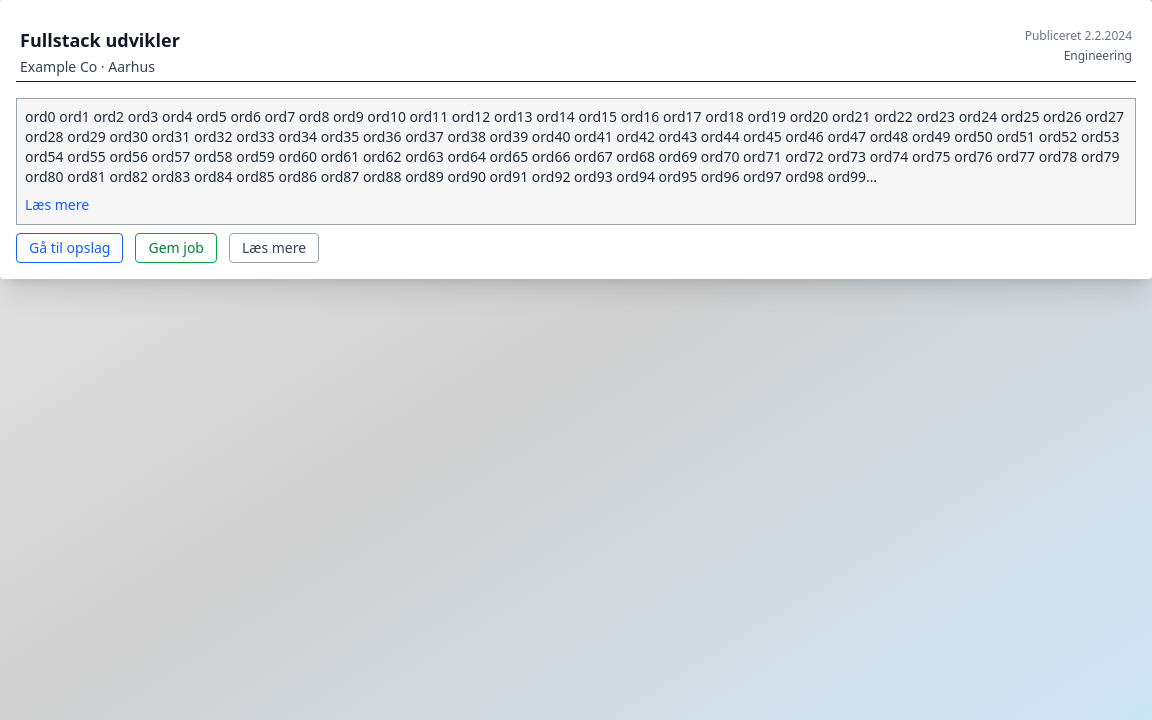
Test: JobList interactions › saves a job and flips the CTA
Click the button "Gem job". click: (176, 248)
box: [136,233,217,263]
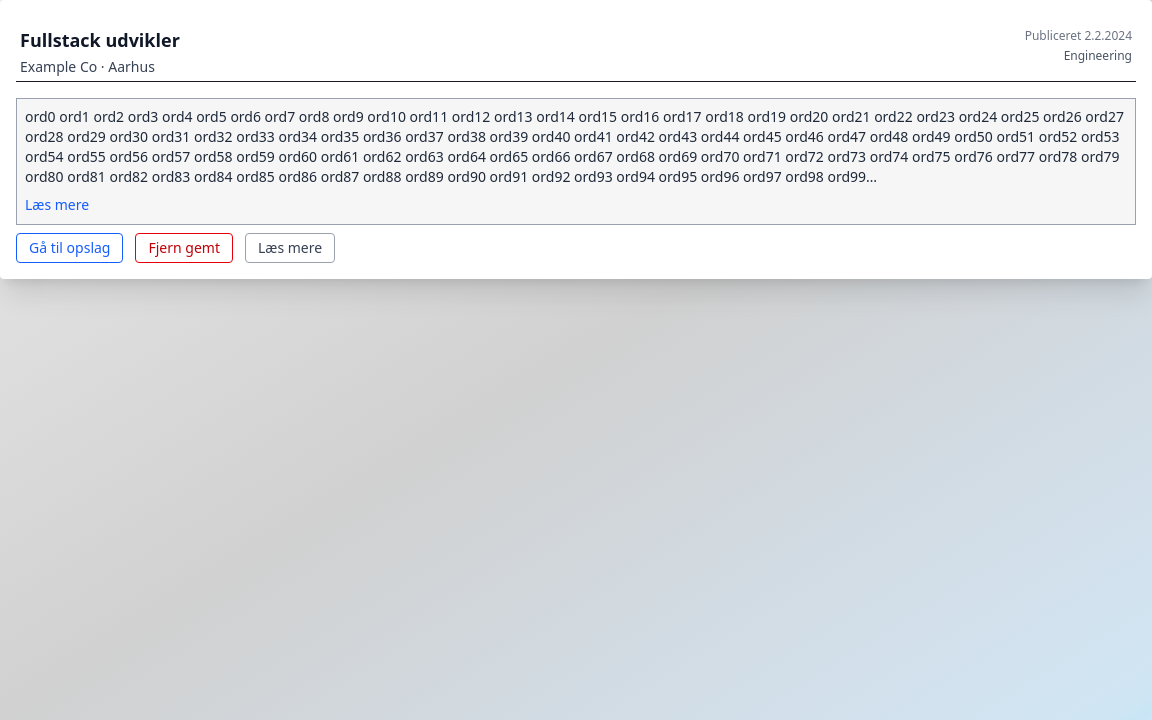
Expected: the button "Fjern gemt" is shown, [136,233,233,263]
